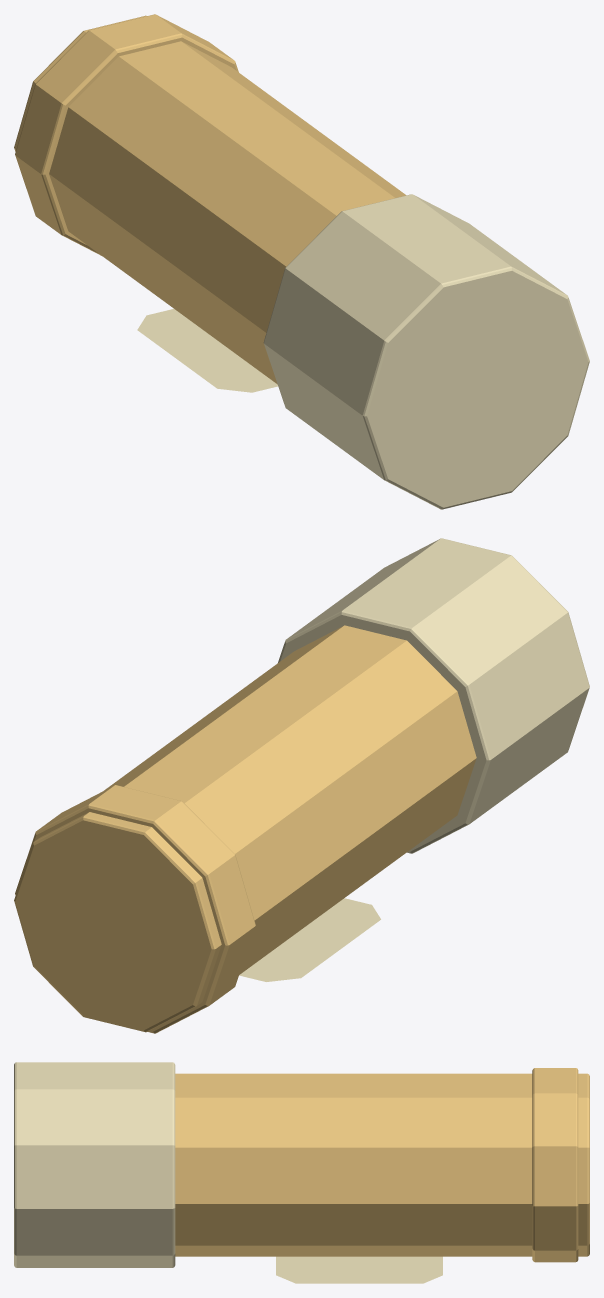
Rendered from glue_stick.glb.
The picture shows the model from 3 angles, top to bottom: view 1: azimuth 30°, elevation 25°; view 2: azimuth 150°, elevation 25°; view 3: azimuth 270°, elevation 25°; orthographic projection. The views are drawn at different scales.
Parts seen in each view (by area): view 1: glue_stick; view 2: glue_stick; view 3: glue_stick.
Boxes of the visible parts, <box> form: glue_stick: <box>14,14,589,509</box>; glue_stick: <box>14,538,589,1033</box>; glue_stick: <box>14,1062,589,1283</box>.
Size of the model in its own units: 0.036 by 0.0342 by 0.1.
